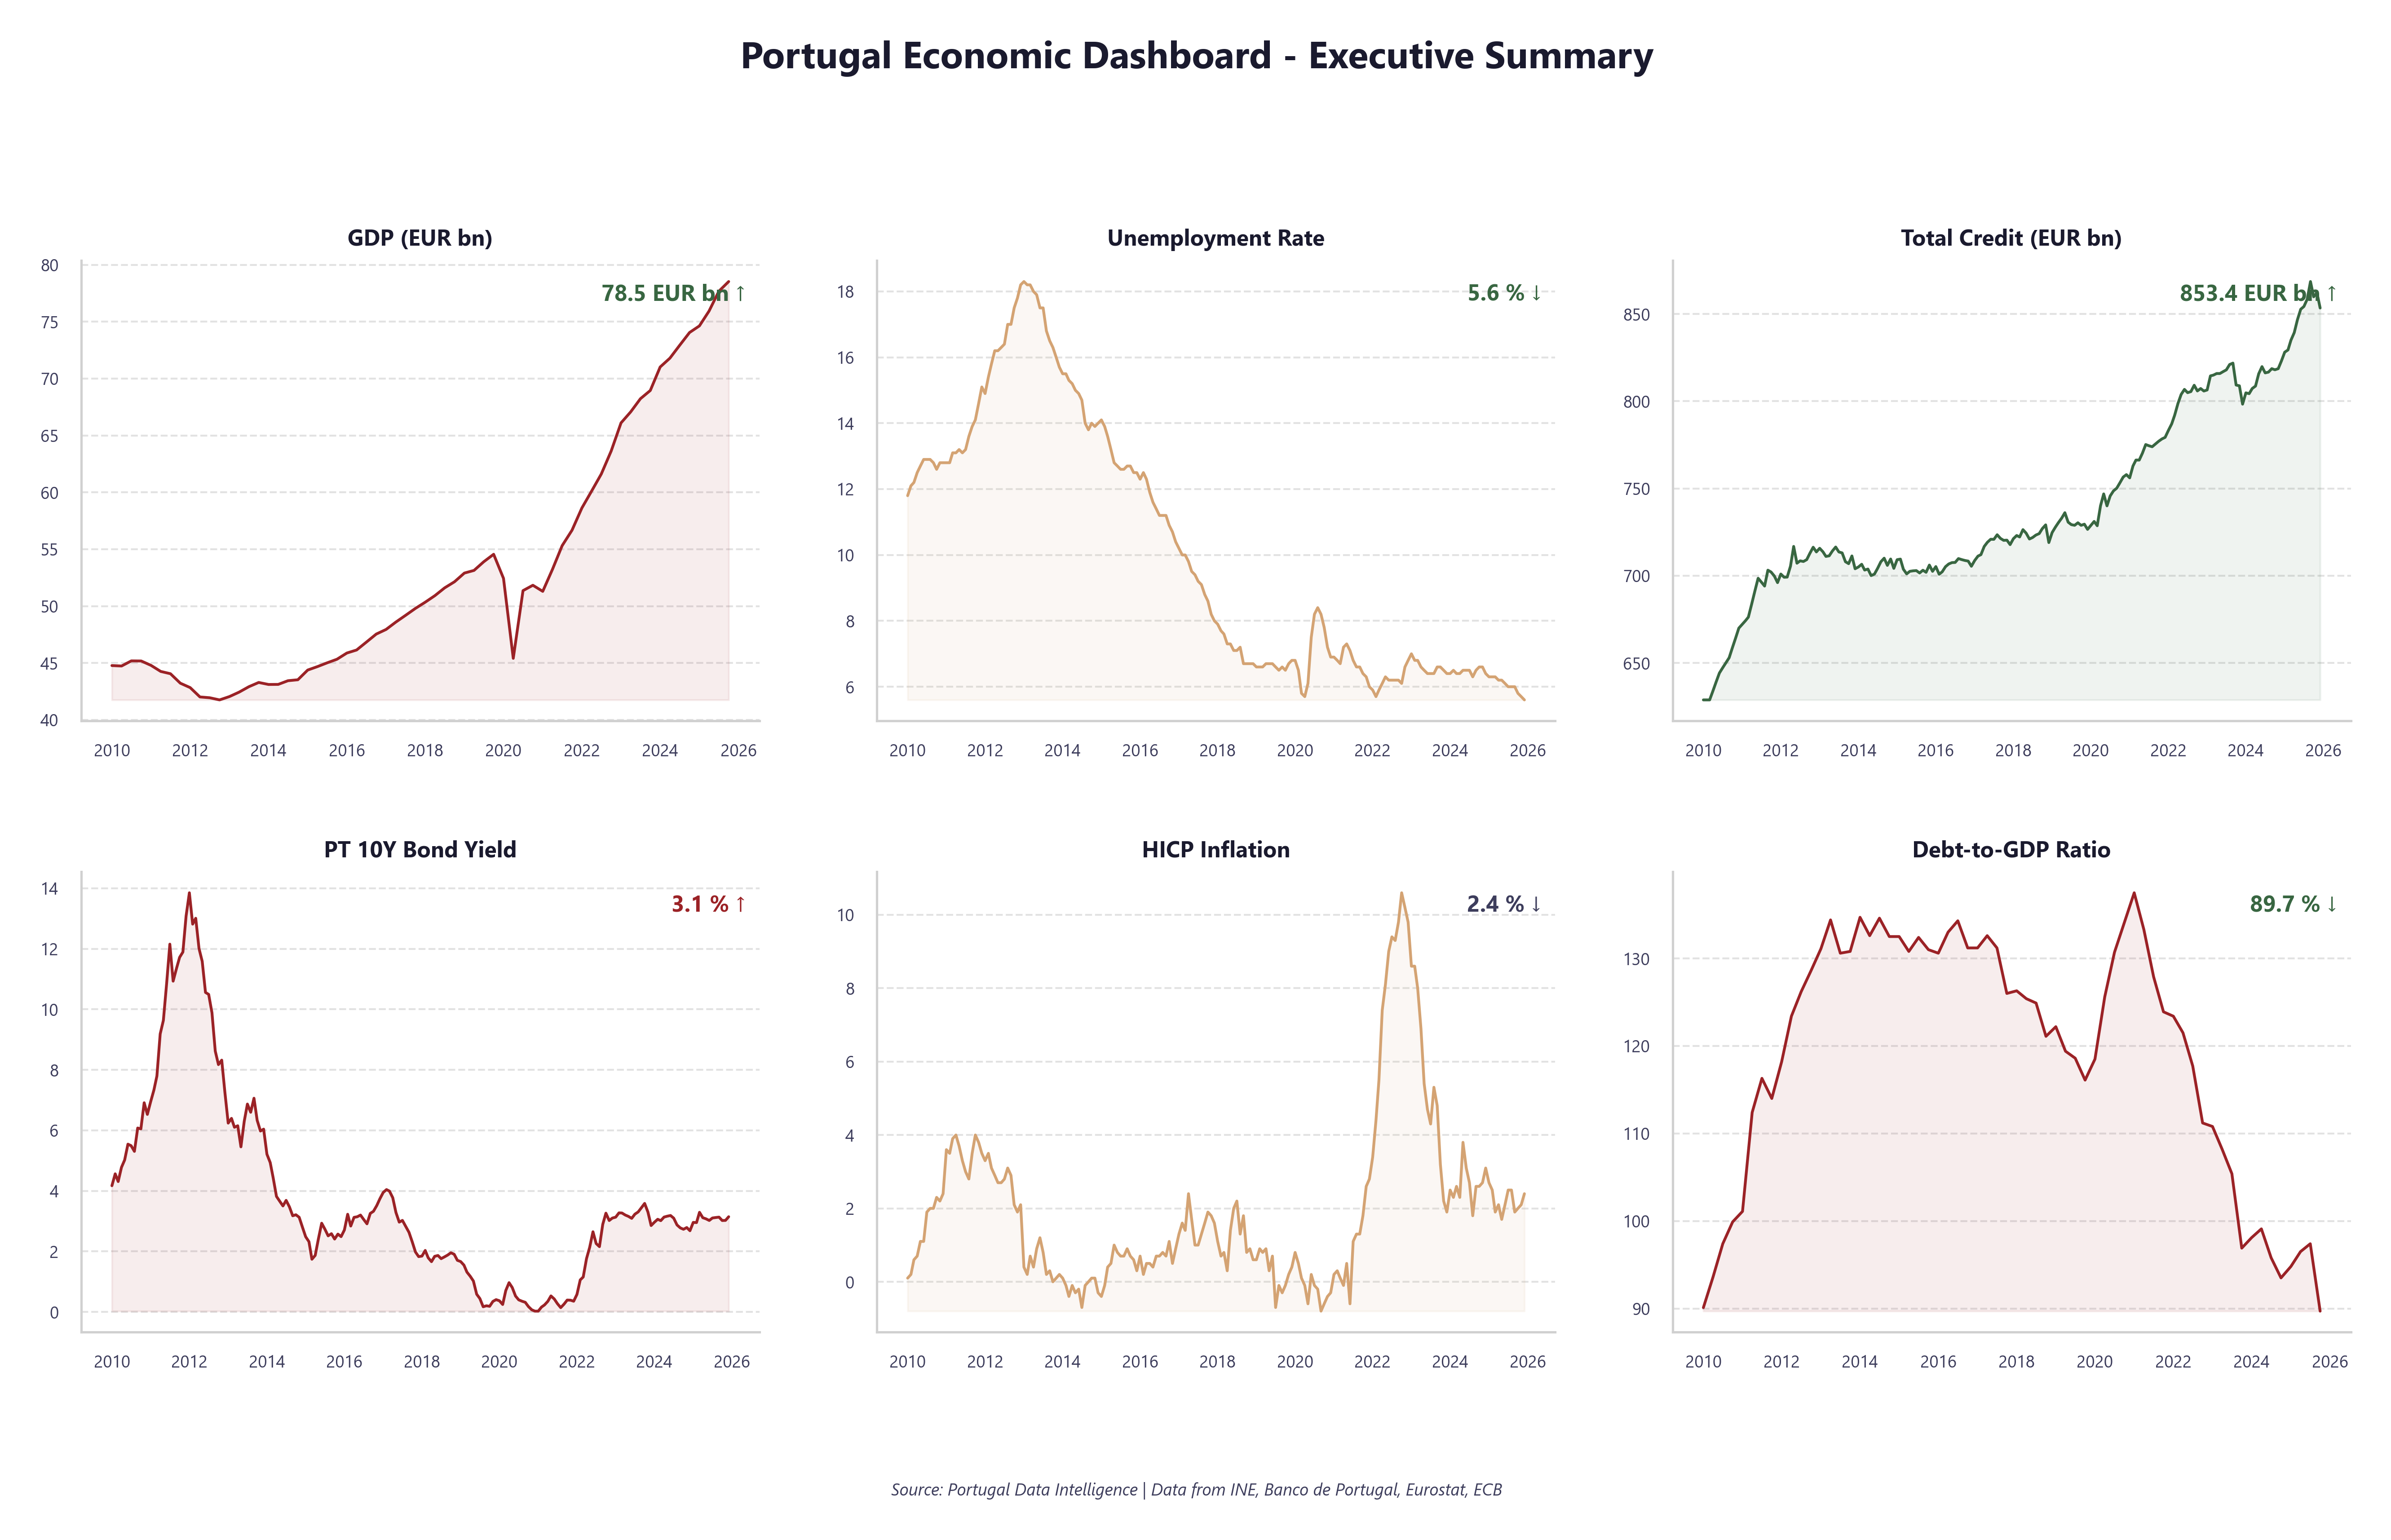

The dashboard page shown, as its layout file describes it:
{"tool":"powerbi","page":{"name":"Executive Overview","canvas":[1280,720],"ordinal":0},"visuals":[{"type":"textbox","box":[35.3,31.6,277.2,51.1],"z":0},{"type":"card","fields":{"Values":["_Measures.Latest GDP Growth"]},"box":[499.9,31.6,330,190],"z":1000},{"type":"card","fields":{"Values":["_Measures.Latest Unemployment Rate"]},"box":[499.9,492.4,330,190],"z":2000},{"type":"card","fields":{"Values":["_Measures.Latest Total Credit"]},"box":[499.9,261.4,330,190],"z":3000},{"type":"card","fields":{"Values":["_Measures.Latest ECB Rate"]},"box":[876.8,31.6,330,190],"z":4000},{"type":"card","fields":{"Values":["_Measures.Latest HICP"]},"box":[876.8,261.4,330,190],"z":5000},{"type":"card","fields":{"Values":["_Measures.Latest Debt to GDP"]},"box":[876.8,492.4,329.5,189.7],"z":6000},{"type":"slicer","fields":{"Values":["dim_date.full_date"]},"box":[35.3,126.4,375.7,149.5],"z":7000},{"type":"slicer","fields":{"Values":["dim_date.Economic Period"]},"box":[35.3,301.5,375.7,149.5],"z":8000},{"type":"textbox","box":[18.2,663.8,166.6,36.5],"z":9000}]}

Visuals, with their boxes on the page's 1280x720 design canvas (x1, y1, x2, y2). These are canvas units, not pixel positions in the 2391x1540 screenshot, which may show the page scaled, cropped or inside an application window:
textbox: [left=35, top=32, right=312, bottom=83]
card - _Measures.Latest GDP Growth: [left=500, top=32, right=830, bottom=222]
card - _Measures.Latest Unemployment Rate: [left=500, top=492, right=830, bottom=682]
card - _Measures.Latest Total Credit: [left=500, top=261, right=830, bottom=451]
card - _Measures.Latest ECB Rate: [left=877, top=32, right=1207, bottom=222]
card - _Measures.Latest HICP: [left=877, top=261, right=1207, bottom=451]
card - _Measures.Latest Debt to GDP: [left=877, top=492, right=1206, bottom=682]
slicer - dim_date.full_date: [left=35, top=126, right=411, bottom=276]
slicer - dim_date.Economic Period: [left=35, top=302, right=411, bottom=451]
textbox: [left=18, top=664, right=185, bottom=700]
